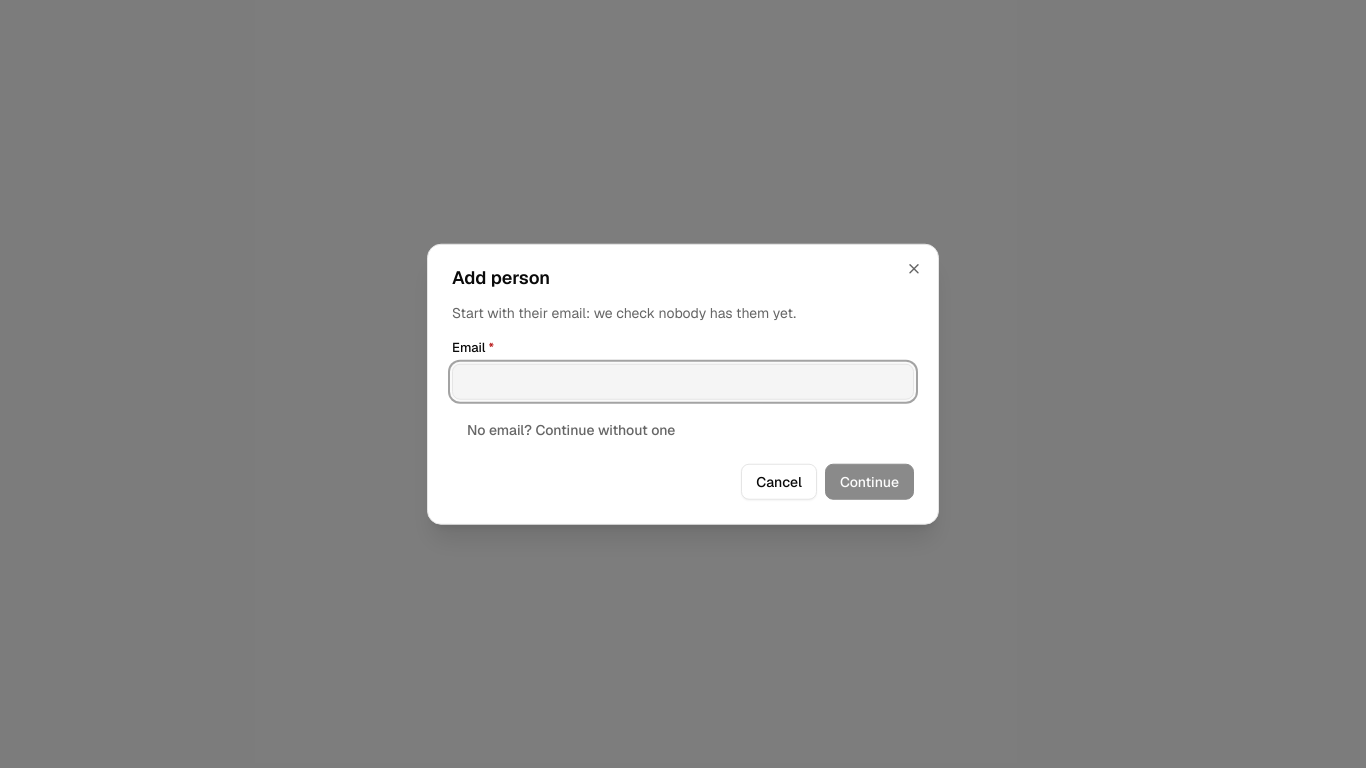
Scenario: Add person: the address first › the company at the address’s domain is chosen for them
The image size is (1366, 768).
Later steps or results of the test are not shown.
Type "dana@acme.com" into the field labelled "Email *" at (683, 381), box left=452, top=363, right=914, bottom=399
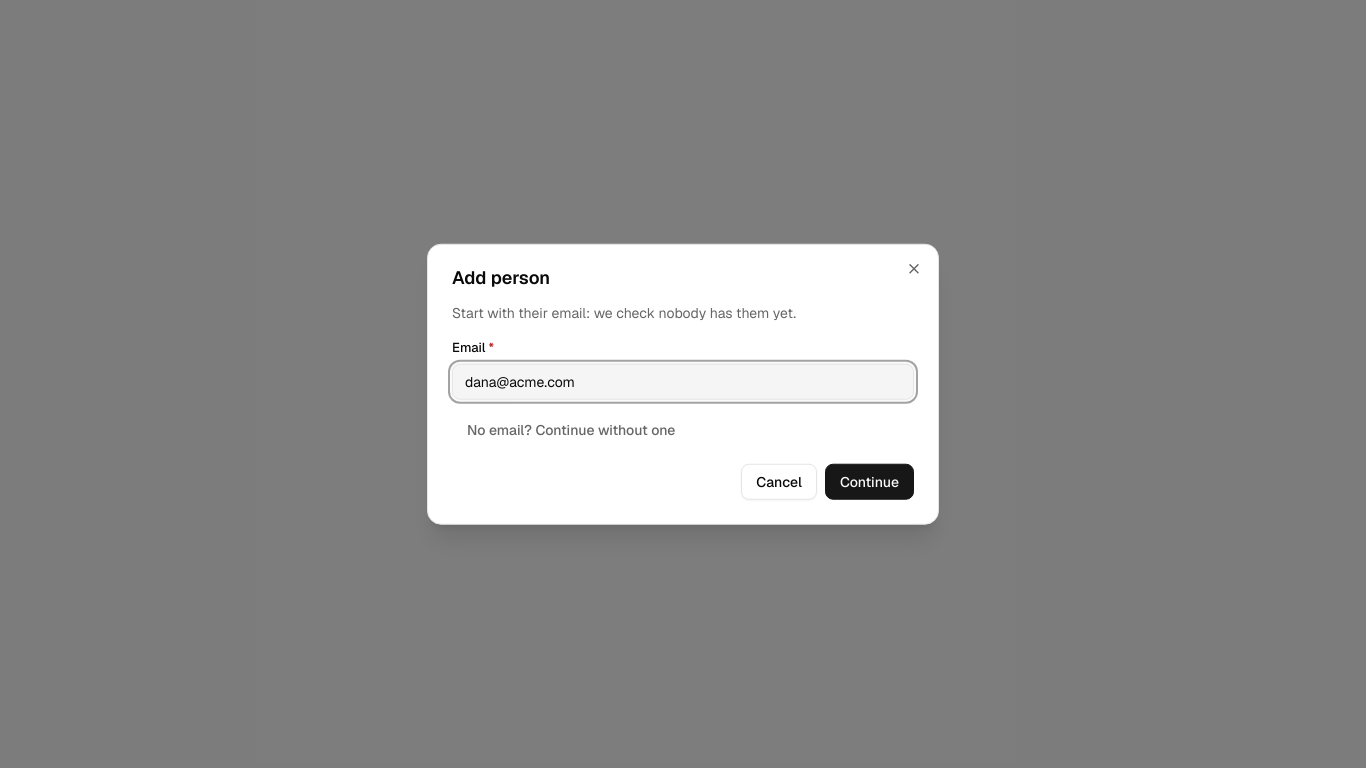
Click the button "Continue" at (869, 481), box left=825, top=463, right=914, bottom=499
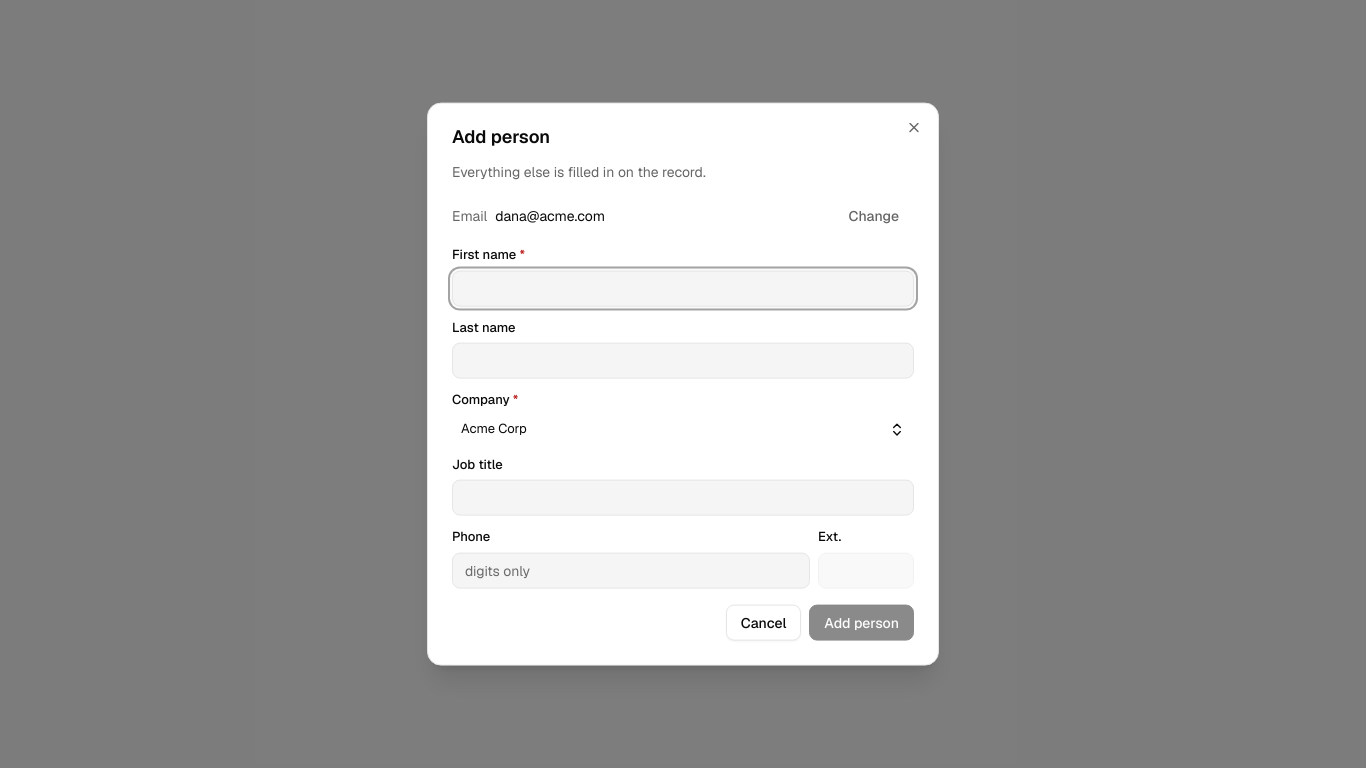
Type "Dana" into the field labelled "First name *" at (683, 288), box left=452, top=270, right=914, bottom=306
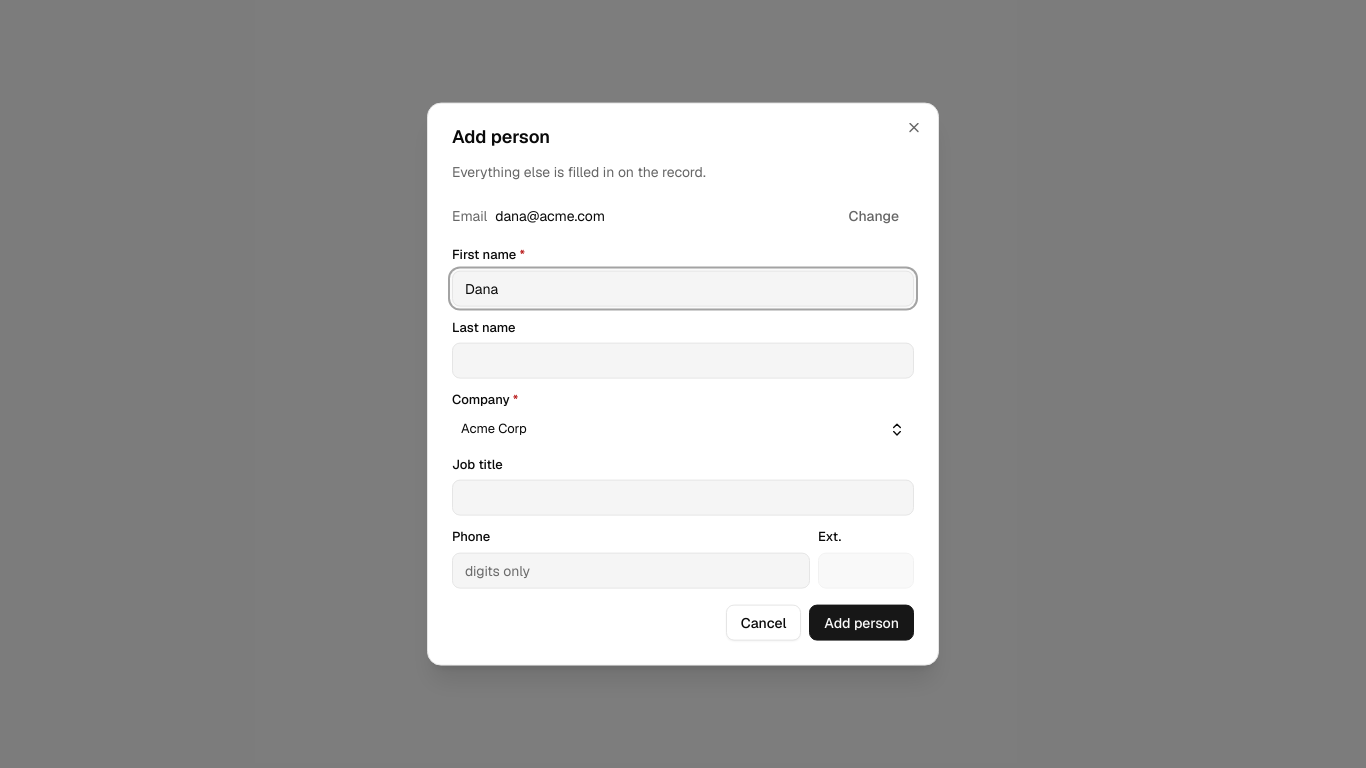
Check: the button with aria-label "Company:" reads "Acme Corp", box left=452, top=415, right=914, bottom=443
